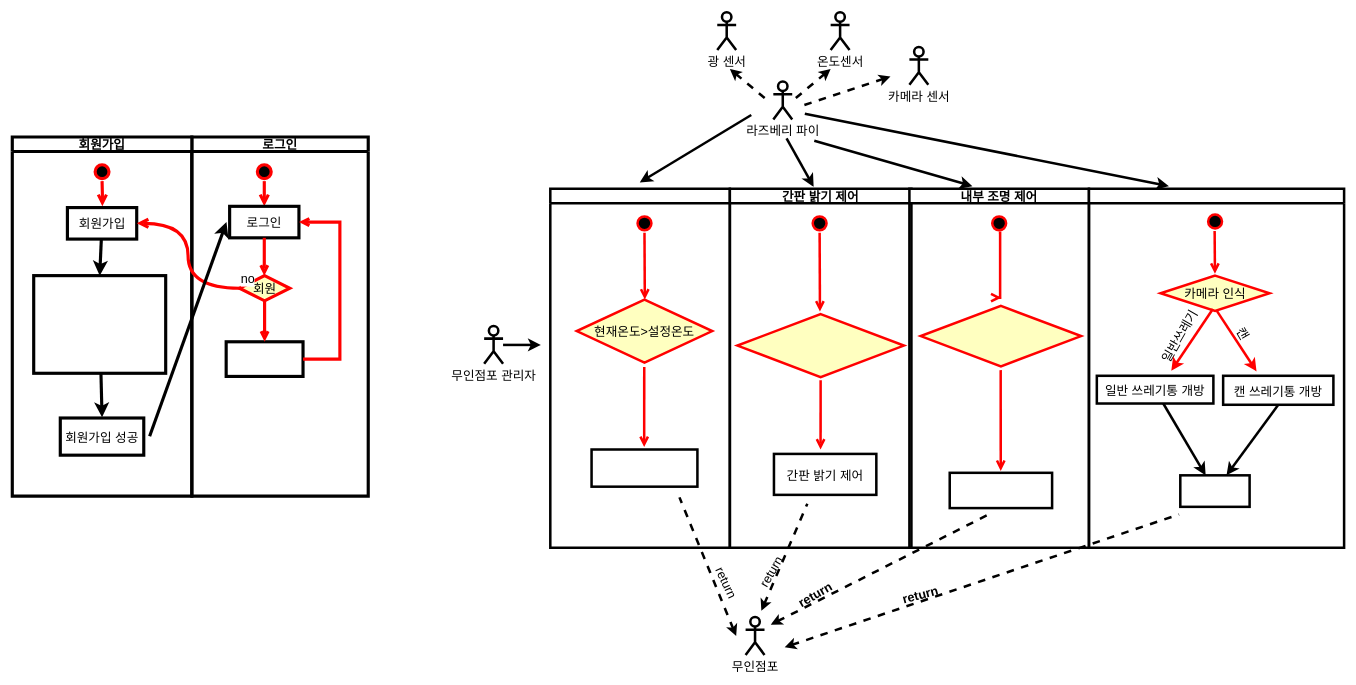
Some shapes in this 1356 by 685 pixel diagram are drawn without their labels. Here are the shapes that lost their labels. From the top down, the box of each, then its label:
(32, 274, 167, 375): 회원 정보 PK 아이디 NOT NULL 이메일 패스워드 연령대 나이
(919, 304, 1082, 367): 외부밝기>조명설정밝기
(224, 340, 304, 378): 로그인 성공
(736, 312, 905, 378): 외부밝기>간판설정밝기
(549, 187, 731, 549): 냉방 제어
(1087, 187, 1345, 549): 쓰레기통 분리수거
(590, 448, 698, 488): 냉난방 장치 작동
(948, 471, 1053, 509): 조명 밝기 제어
(1179, 474, 1251, 508): 쓰레기통 폐쇄
